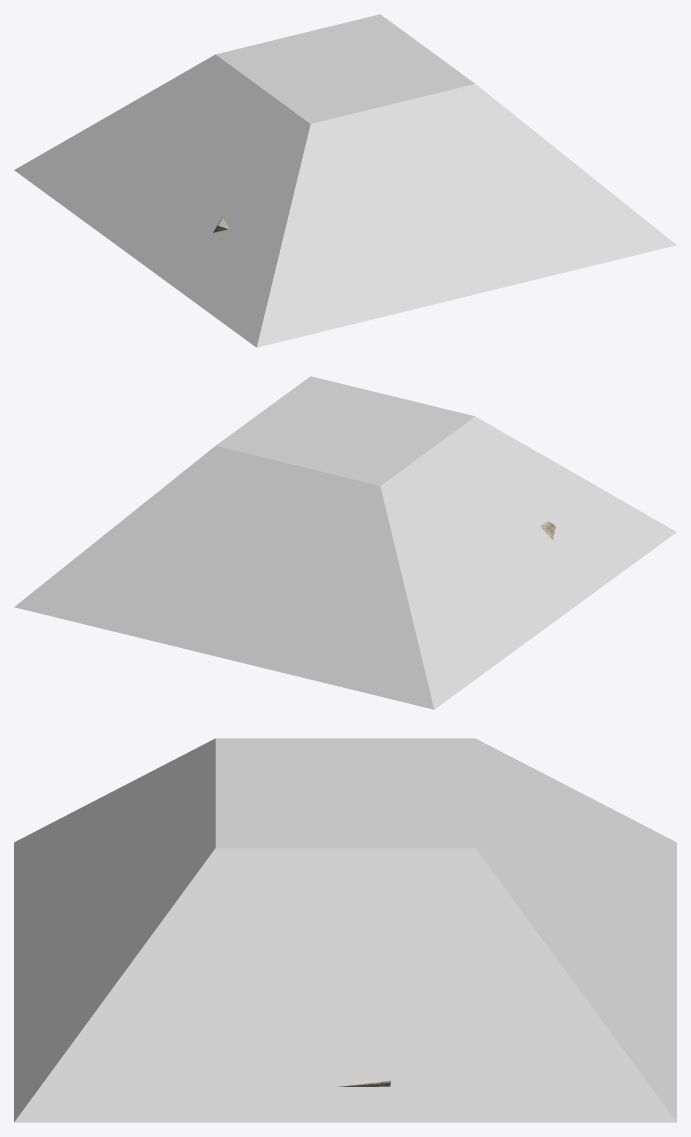
The model's file is Rubble2.gltf.
3 views of the same model, one above another, from view 1: azimuth 30°, elevation 25°; view 2: azimuth 150°, elevation 25°; view 3: azimuth 270°, elevation 25° (orthographic). The views are drawn at different scales.
Visible parts, largest first — view 1: COL; view 2: COL; view 3: COL.
Part boxes in pixels (<box>): COL: <box>14,14,676,347</box>; COL: <box>14,376,676,709</box>; COL: <box>14,738,676,1122</box>.
Size of the model in its own units: 72.18 by 22.74 by 72.18.
Materials: 1 (1 with a texture image).
